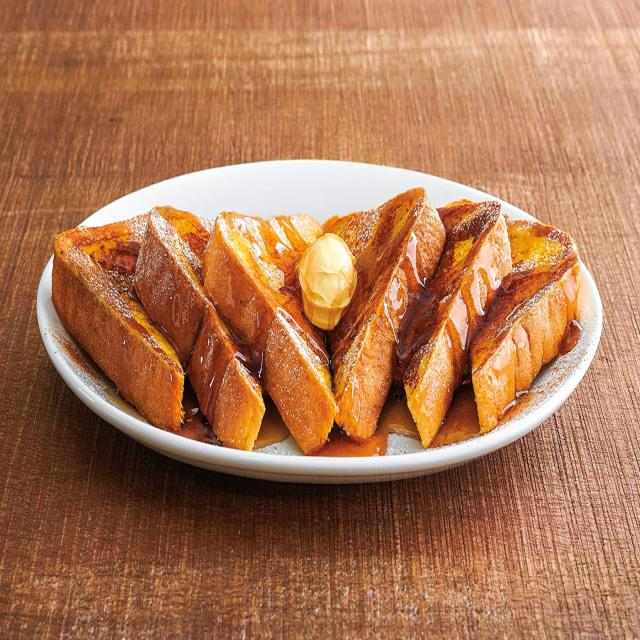Bread: (324, 188, 446, 441), (52, 214, 184, 430), (395, 201, 511, 446), (470, 222, 580, 430), (262, 313, 338, 454)
